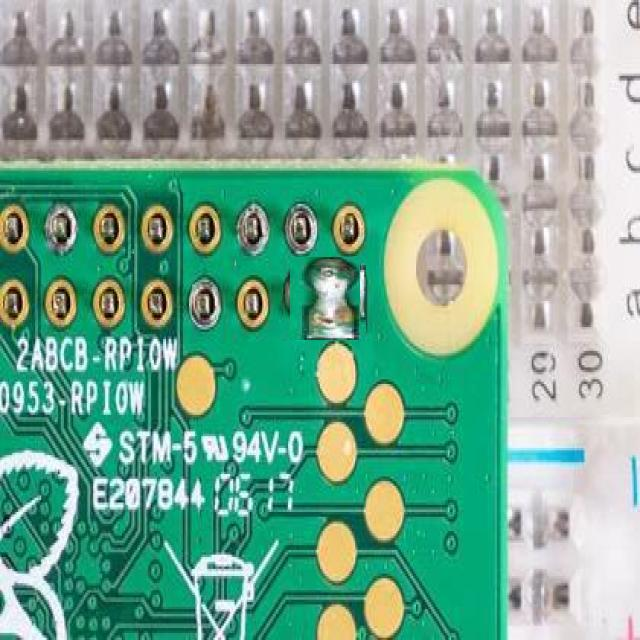Short_circuit: (286, 260, 363, 337)
